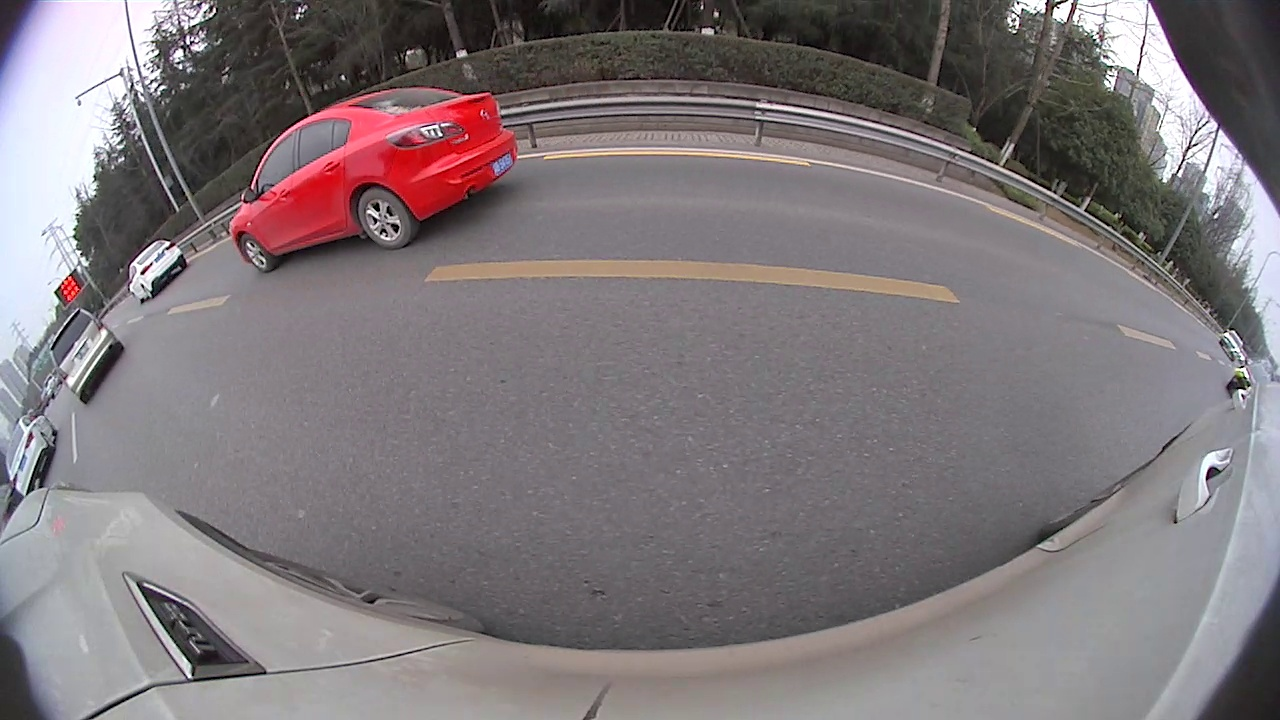car: (228, 85, 518, 274), (47, 305, 125, 405), (3, 409, 59, 498), (126, 237, 188, 306), (1224, 361, 1274, 402), (1218, 327, 1245, 363)
front: (238, 236, 271, 272)
rear: (356, 188, 414, 250)
